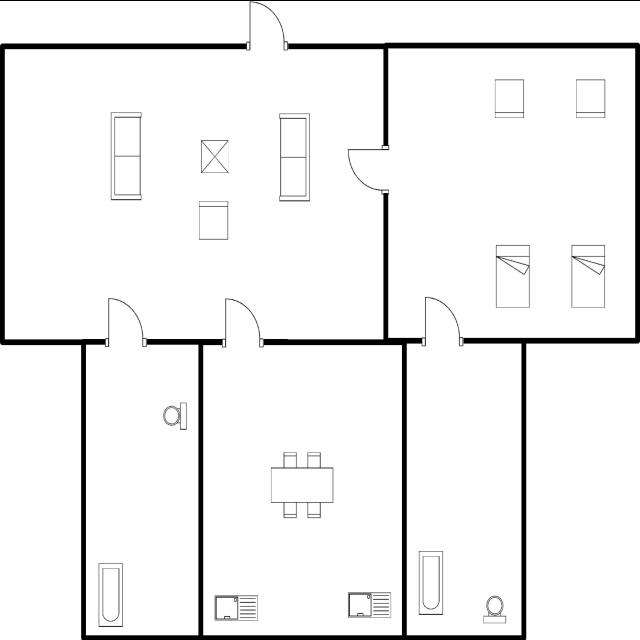bed: (492, 239, 534, 312), (567, 240, 609, 312)
coffee_table: (198, 134, 232, 178)
dining_table: (264, 447, 338, 528)
large_sink: (479, 594, 512, 628)
large_sofa: (104, 104, 146, 204), (276, 108, 314, 206), (157, 398, 190, 436)
sink: (210, 590, 264, 624), (344, 587, 394, 622)
small_sofa: (490, 73, 530, 123), (570, 74, 611, 122), (194, 195, 234, 243)
tub: (94, 557, 128, 631), (416, 546, 448, 620)
